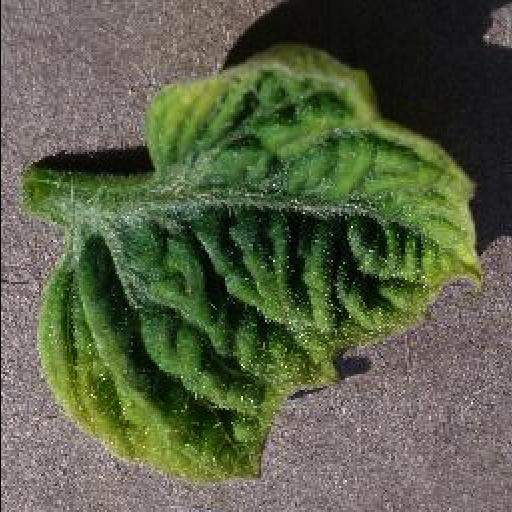disease_tomato: (34, 46, 482, 480)
